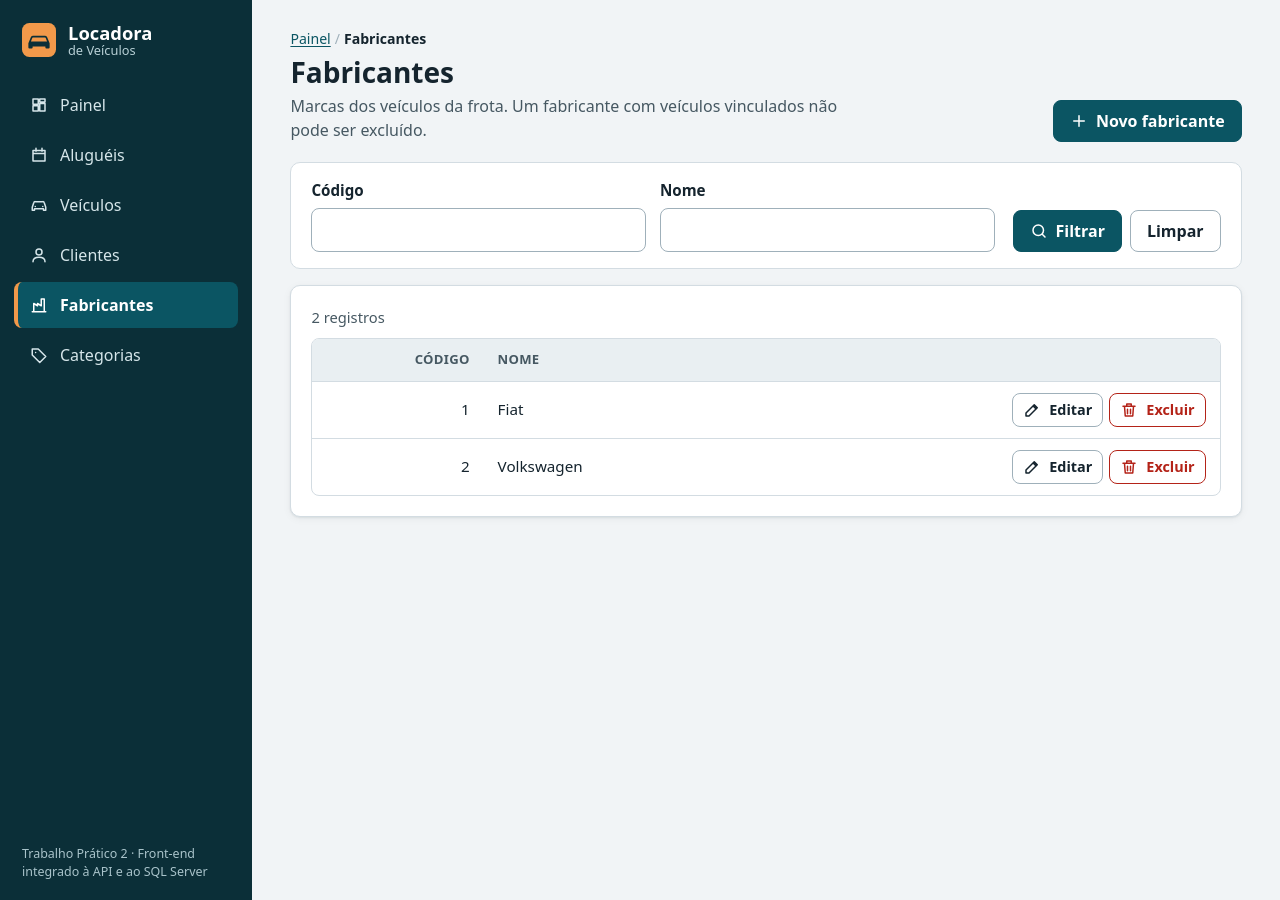
it: Fabricantes › cancelar a confirmação não exclui nada
Click the button with aria-label "Excluir fabricante Fiat" at coordinates (1157, 410), box [1109,393,1206,427]
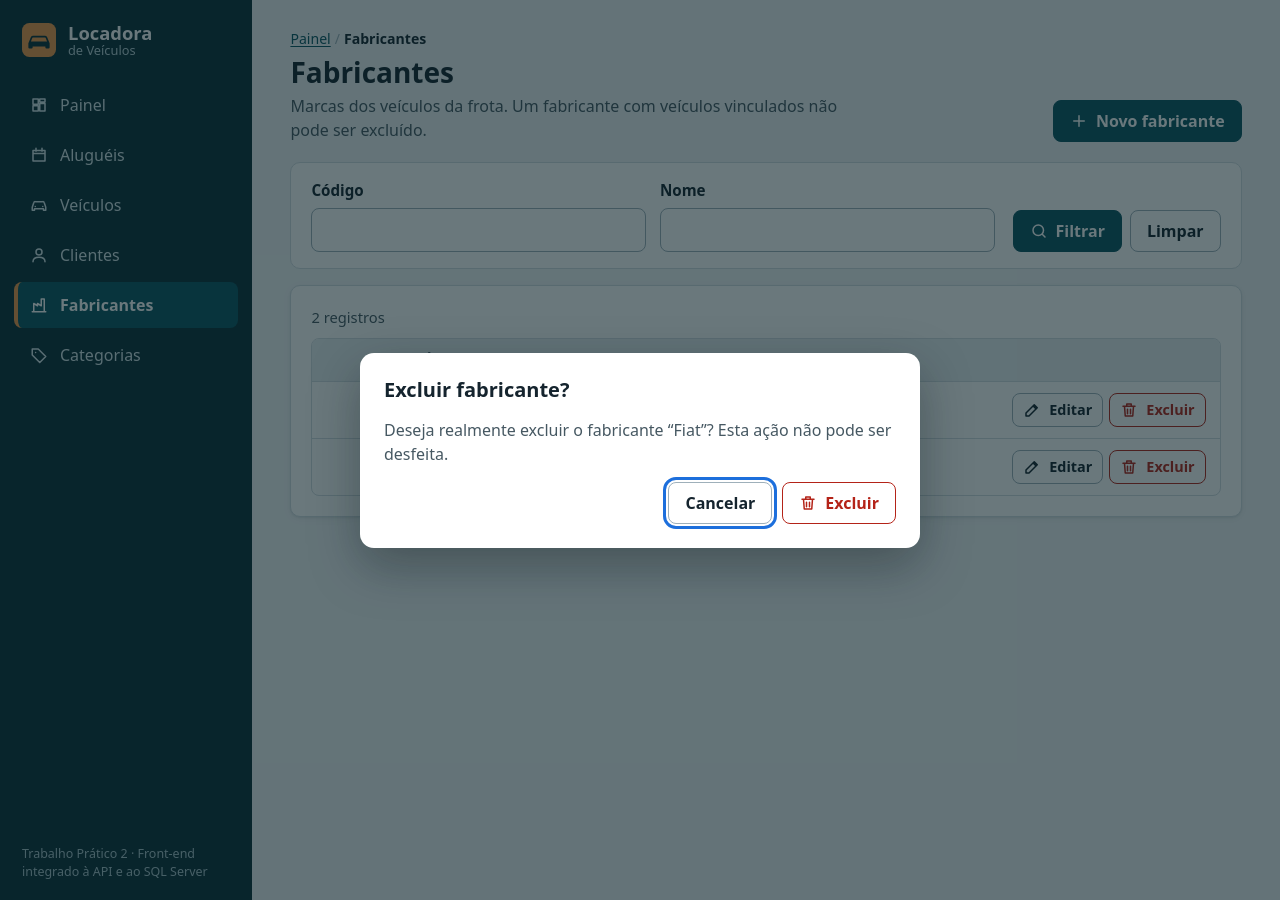
Click the button "Cancelar" at coordinates (720, 502), box [668,482,772,524]
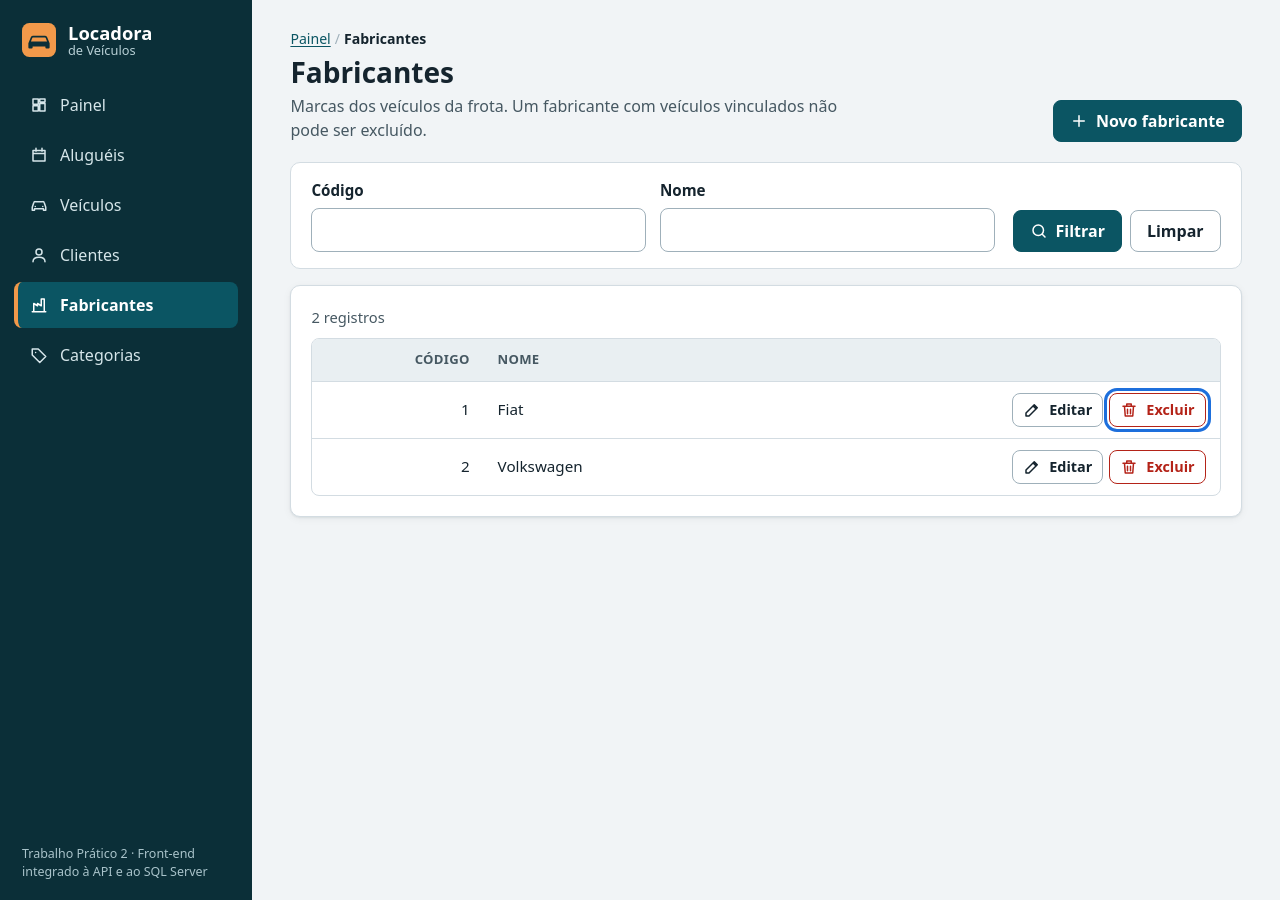
Expected: the dialog is gone
